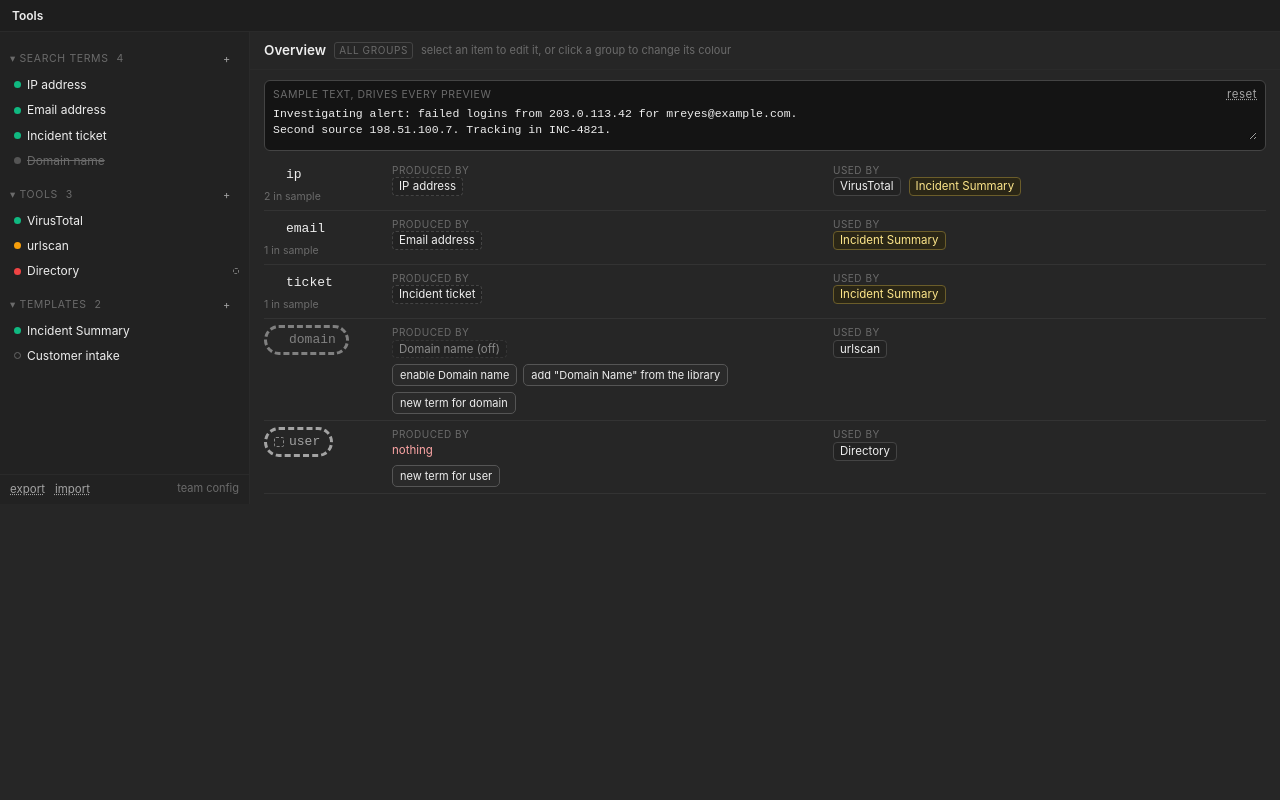
Test case: Tools › delete asks once and names what depends on a term
Click the option with test id "row-term-t-ip" at (50, 84), box [14, 77, 87, 92]
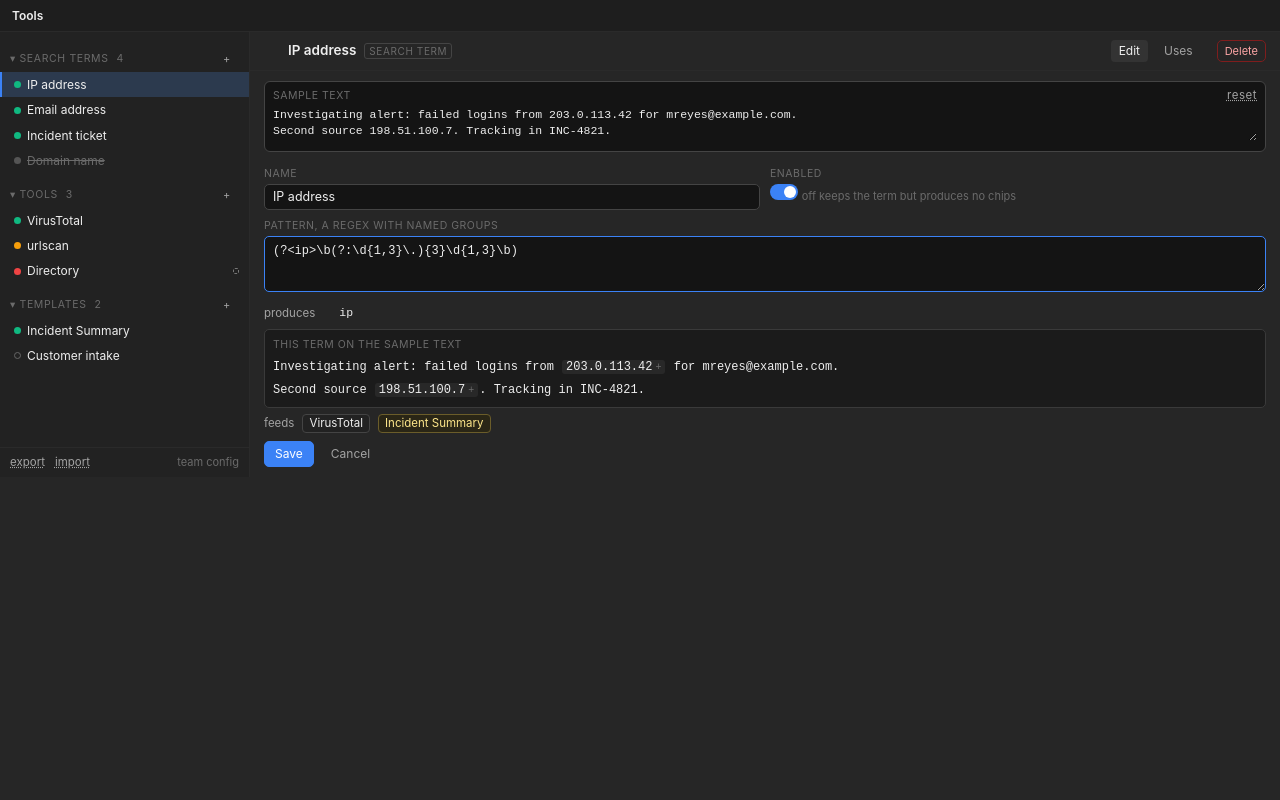
Press Delete in the list with test id "list-pane", box [0, 32, 250, 477]
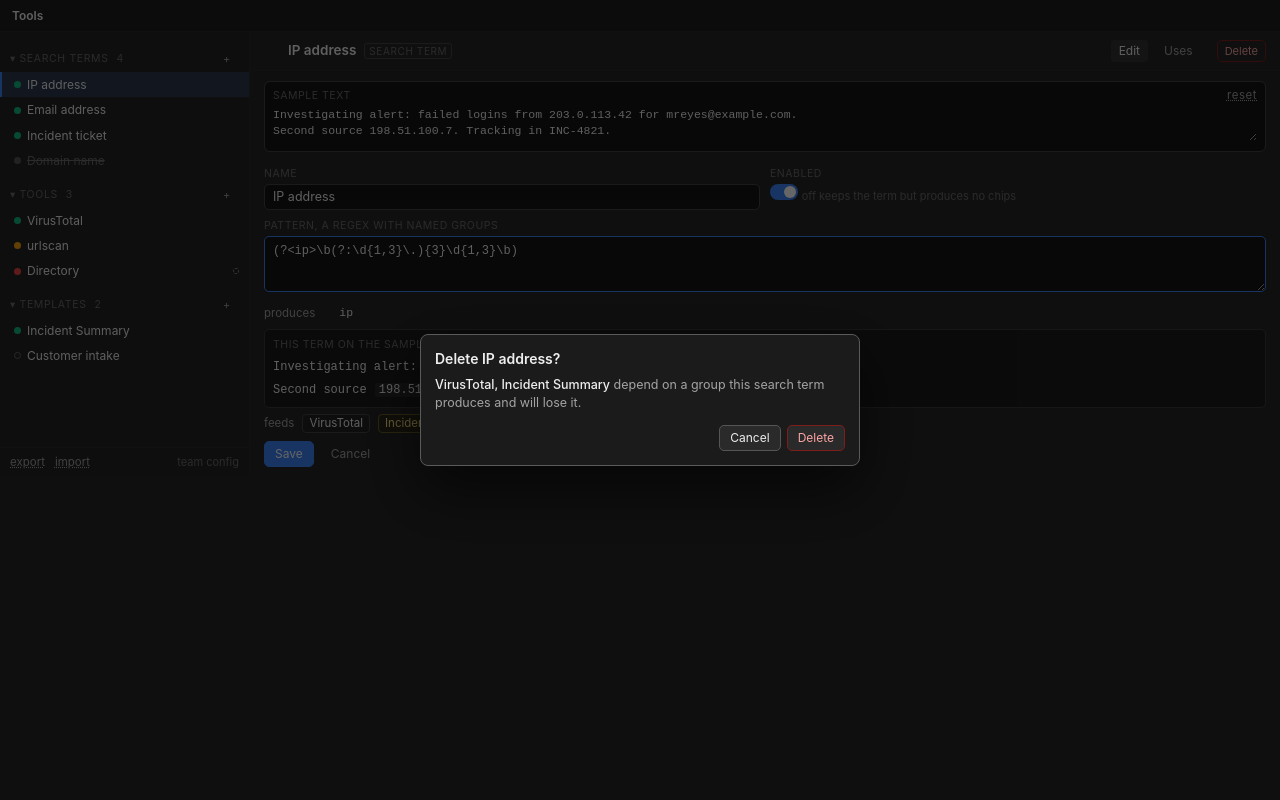
Expected: the dialog shows "Delete IP address?", [435, 350, 560, 367]
Expected: the dialog shows "VirusTotal, Incident Summary", [435, 377, 610, 392]
Expected: the dialog shows "depend on a group this search term produces", [420, 334, 860, 466]
Click the button "Cancel" at (750, 438), box [719, 425, 781, 451]
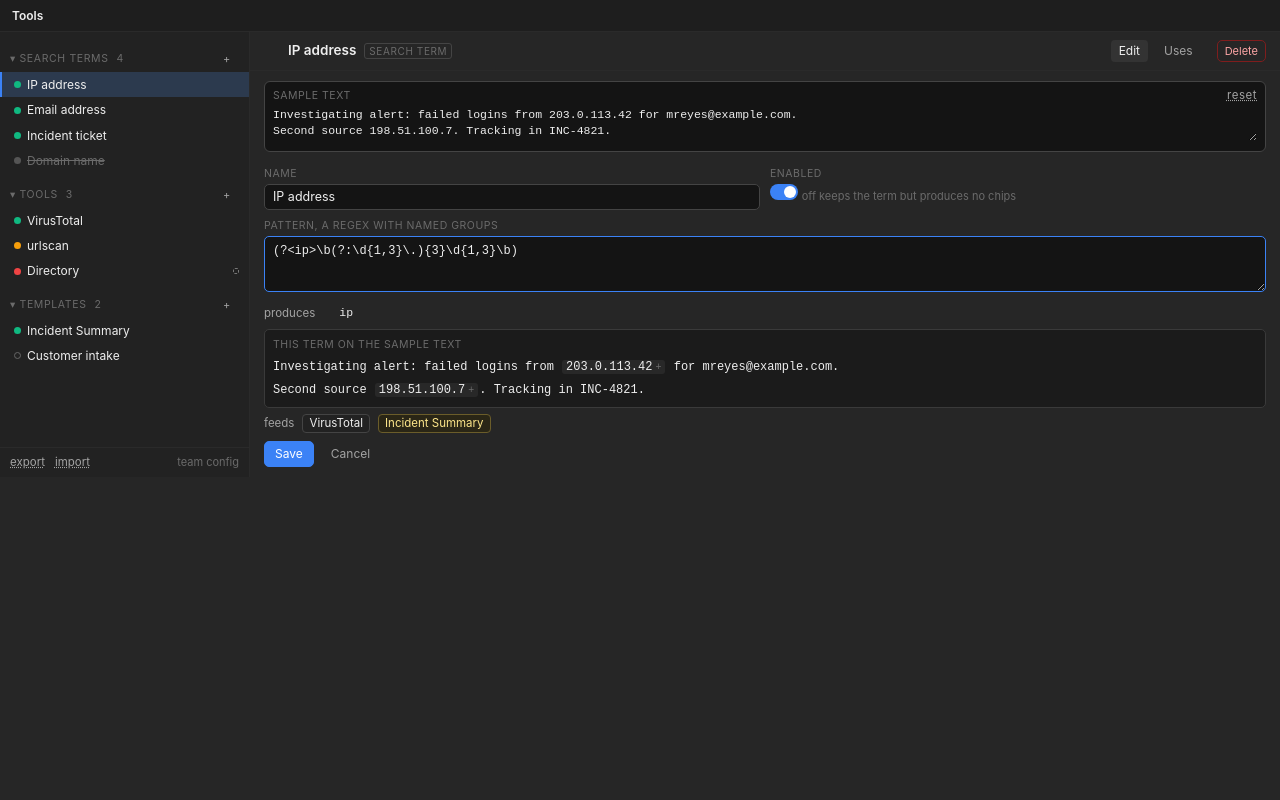
Click the button with test id "delete" at (1241, 51), box [1217, 40, 1266, 62]
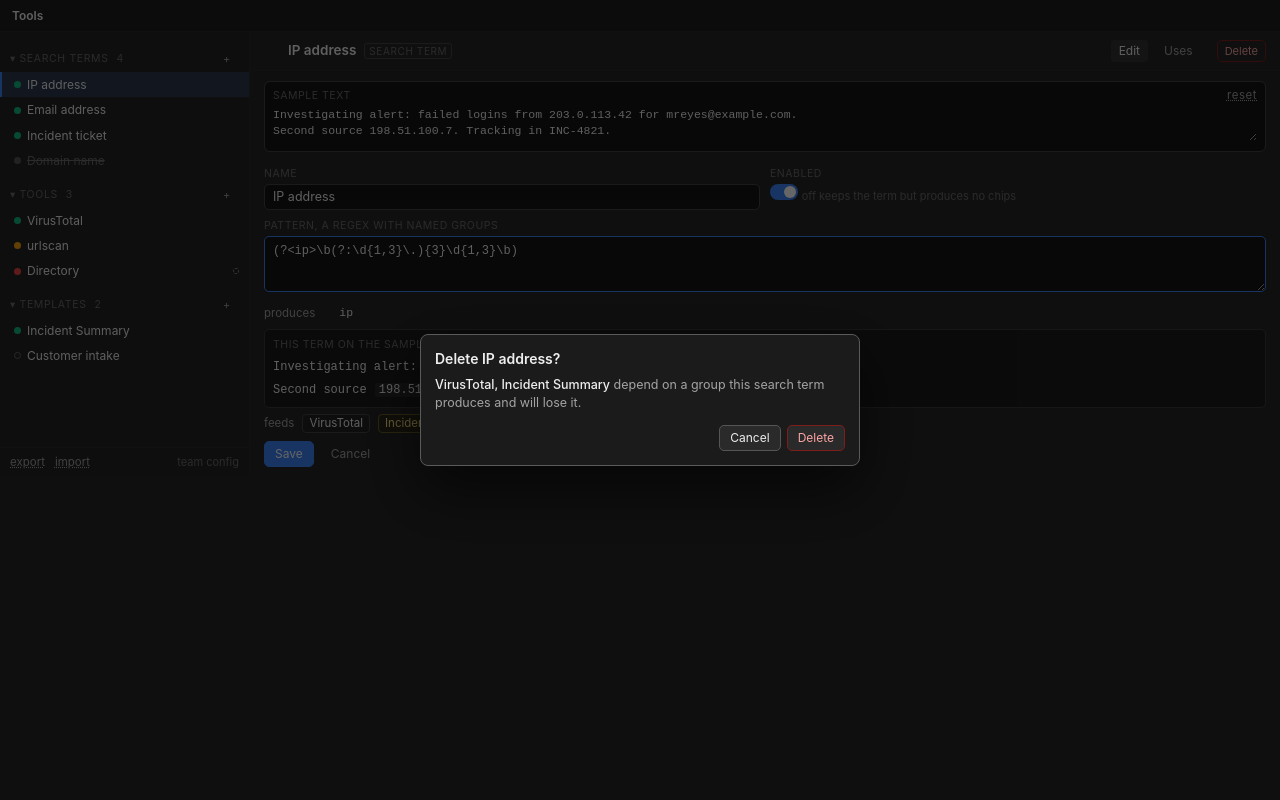
Click the button "Delete" at (816, 438), box [787, 425, 845, 451]
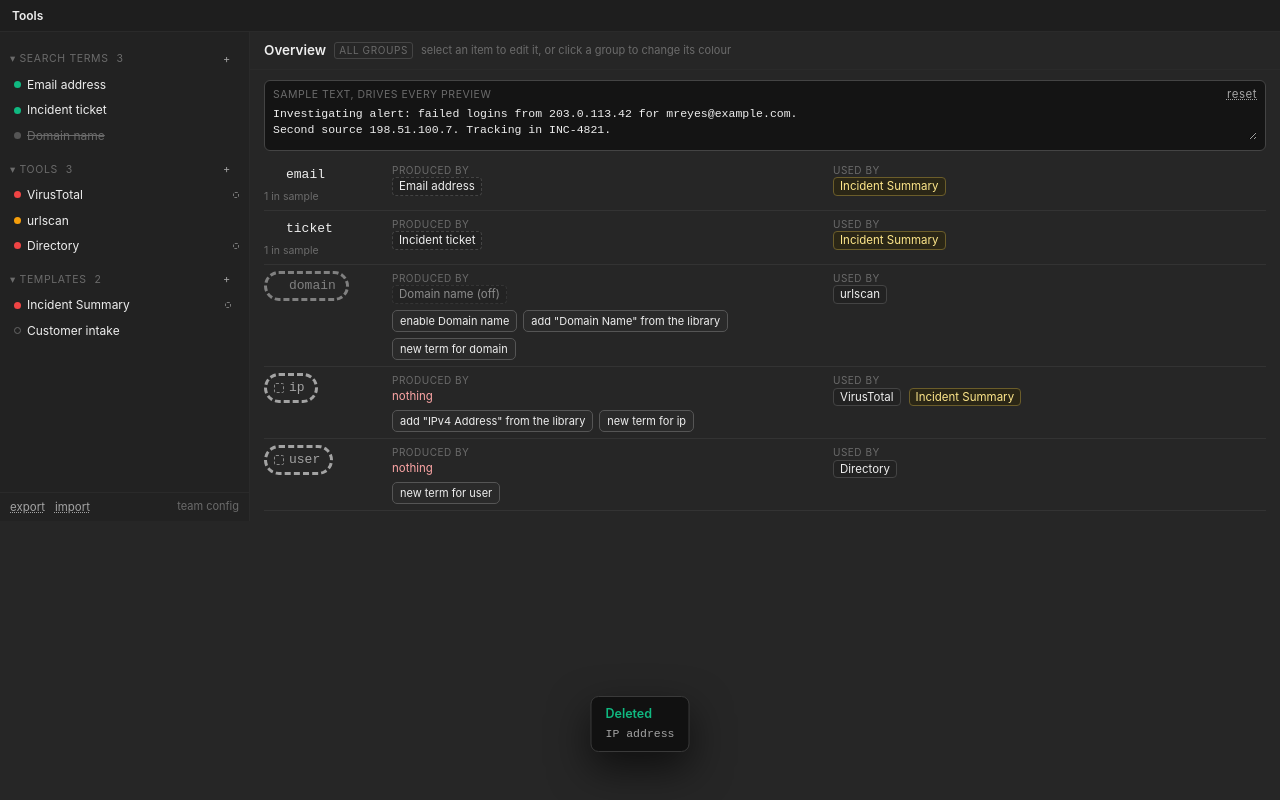
Expected: the option with test id "row-term-t-ip" is gone
